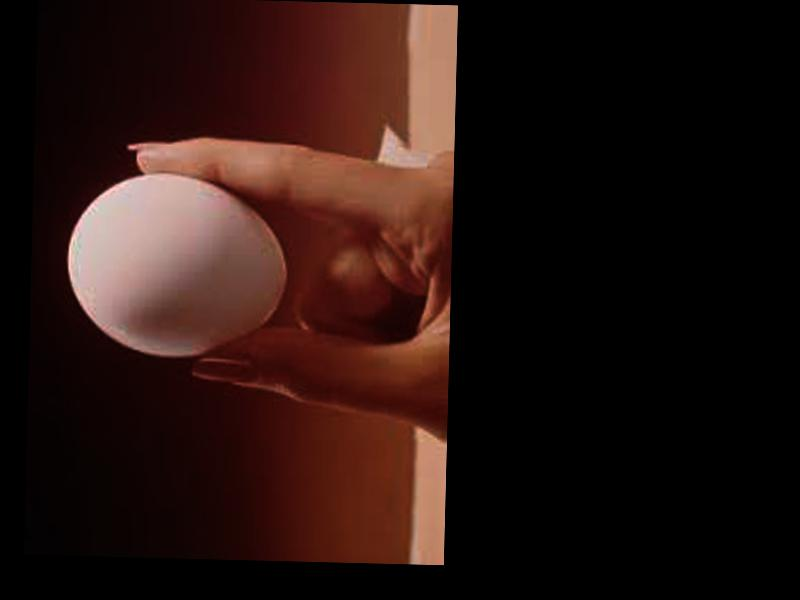Eggs: (66, 171, 292, 363)
